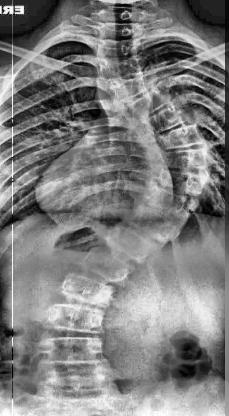Vertebrae: (136, 164, 214, 198), (141, 185, 203, 227), (103, 224, 159, 270), (120, 79, 180, 121), (130, 98, 194, 136), (40, 332, 109, 366), (126, 202, 180, 245), (57, 272, 116, 310), (105, 64, 161, 104), (41, 302, 109, 334), (81, 246, 135, 286), (143, 144, 213, 173), (147, 122, 207, 154), (93, 53, 145, 78), (94, 35, 142, 59)
